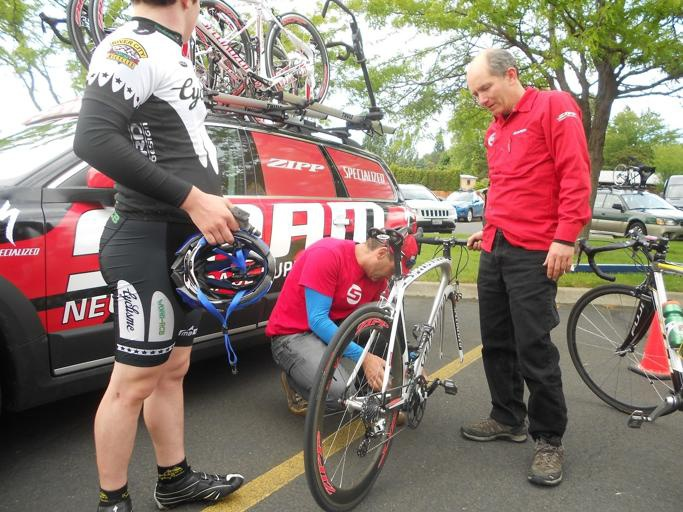non-vehicle: (302, 225, 483, 511), (566, 215, 682, 428), (611, 164, 643, 187)
